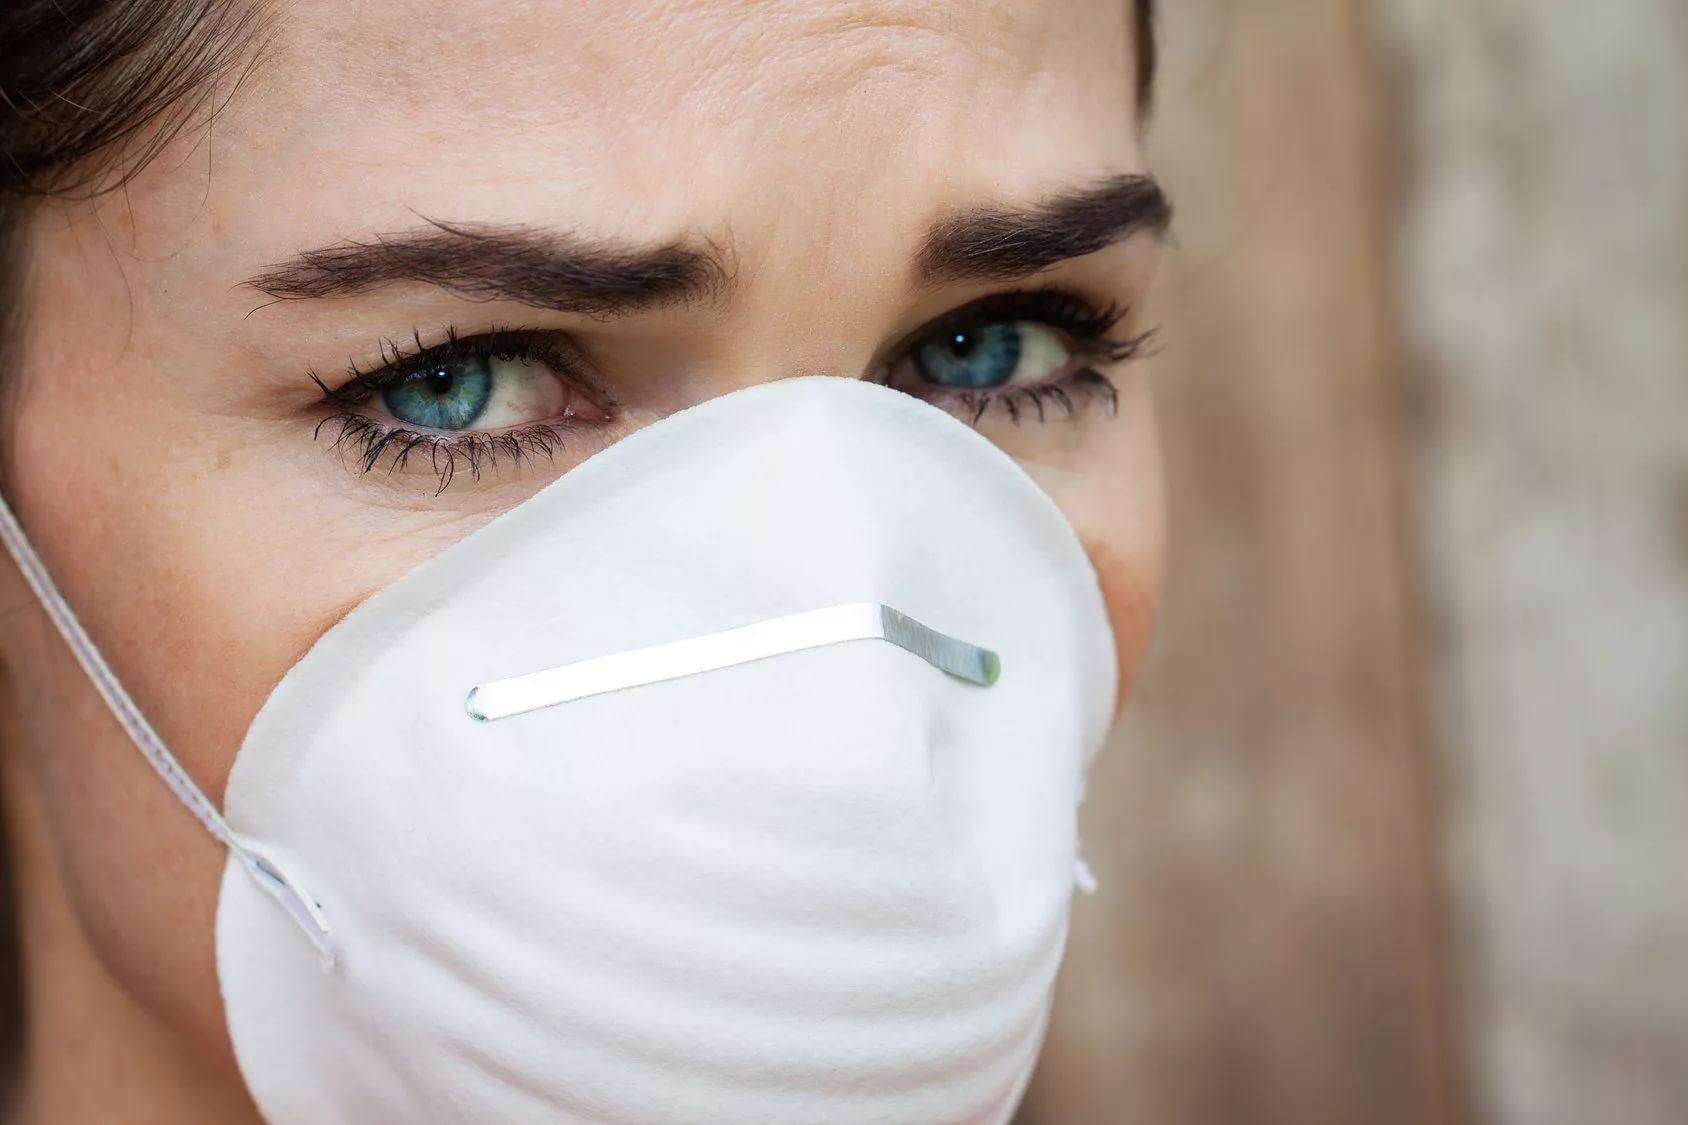mask: (1, 100, 1284, 1125)
